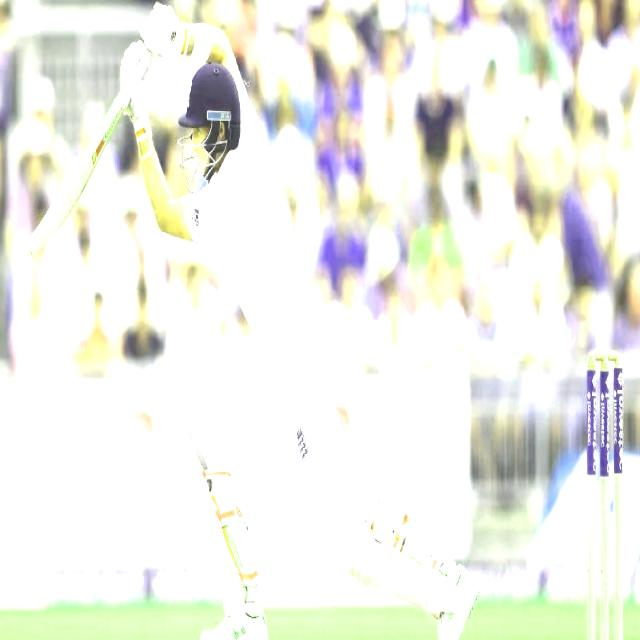toe: (29, 199, 78, 262)
